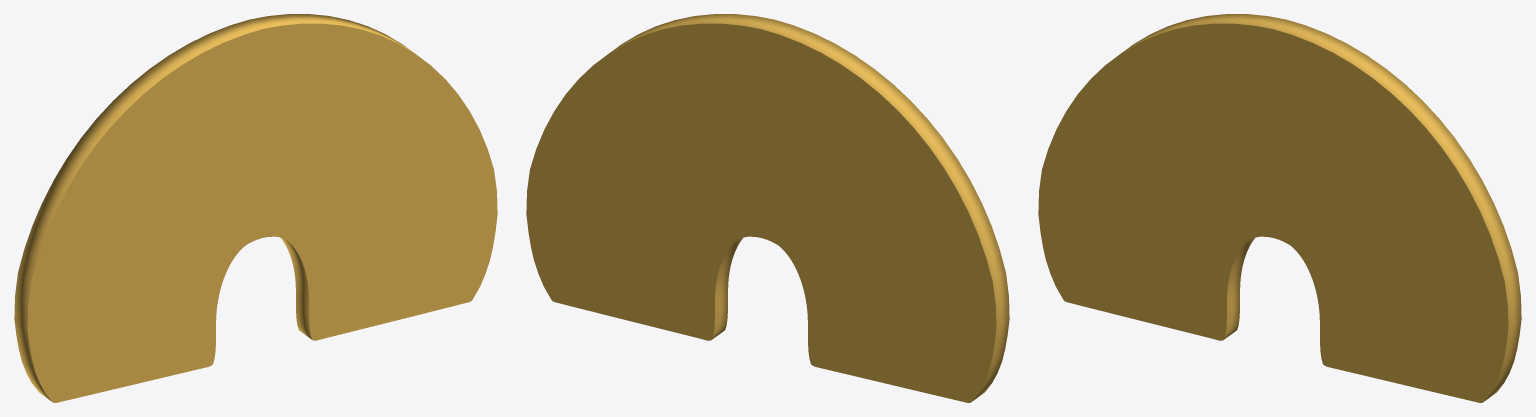
The model's file is LuckyC_Rainbow.fbx.
3 renders of one model, left to right at view 1: azimuth 30°, elevation 25°; view 2: azimuth 150°, elevation 25°; view 3: azimuth 330°, elevation 25°, orthographic.
Parts seen in each view (by area): view 1: LuckyC_Rainbow; view 2: LuckyC_Rainbow; view 3: LuckyC_Rainbow.
Part boxes in pixels (x1,y1,x2,y2): LuckyC_Rainbow: [14, 14, 497, 402]; LuckyC_Rainbow: [526, 14, 1009, 402]; LuckyC_Rainbow: [1038, 14, 1521, 402].
Bounding box in the file's own units: 2.92 × 1.93 × 0.1415.
